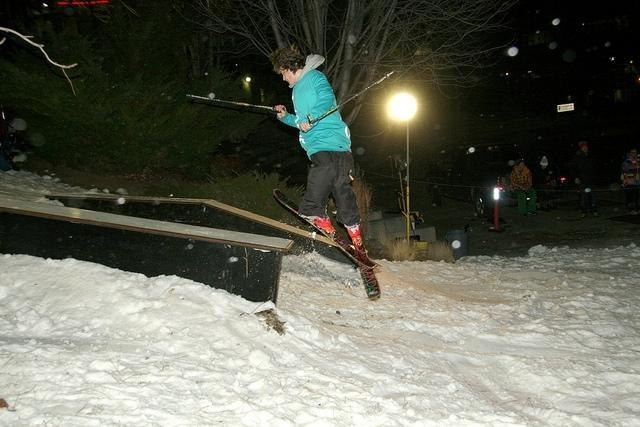car: (426, 136, 522, 216)
